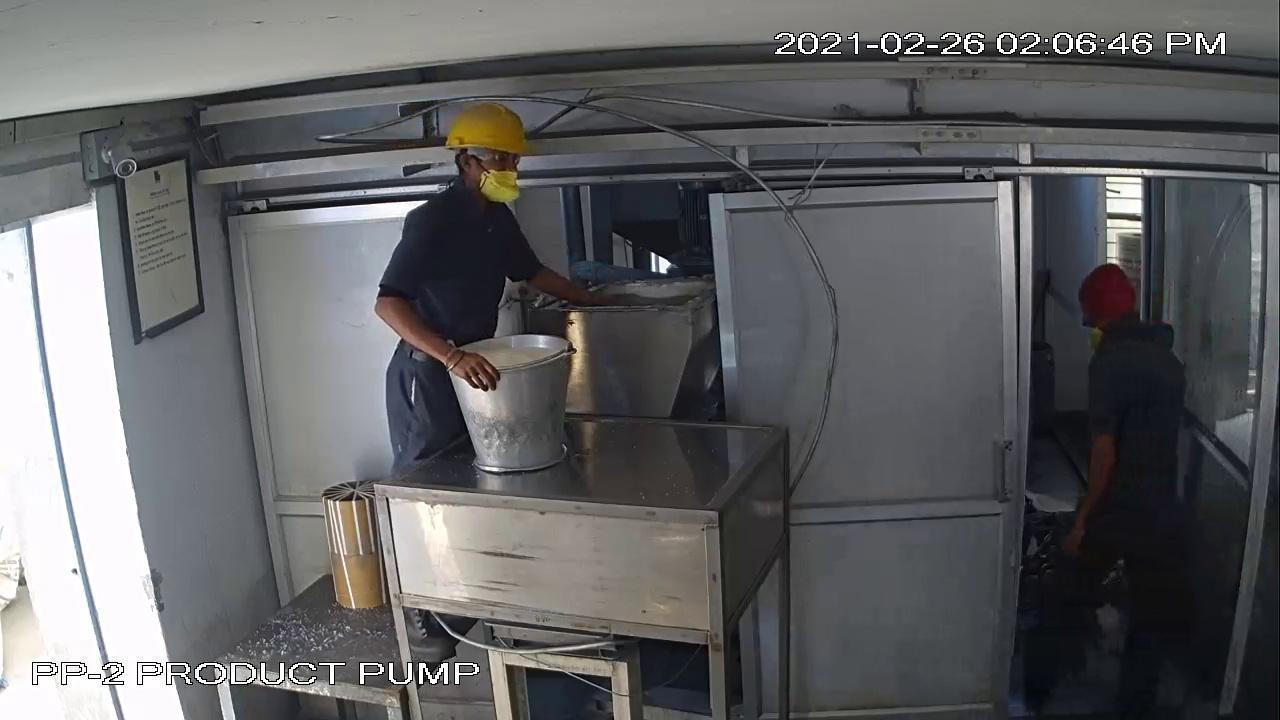helmet: (427, 100, 551, 166)
